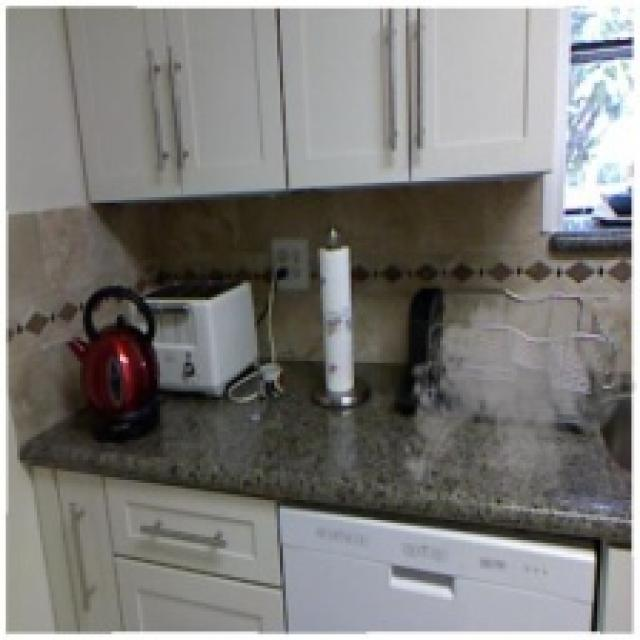smoke: (397, 274, 637, 523)
